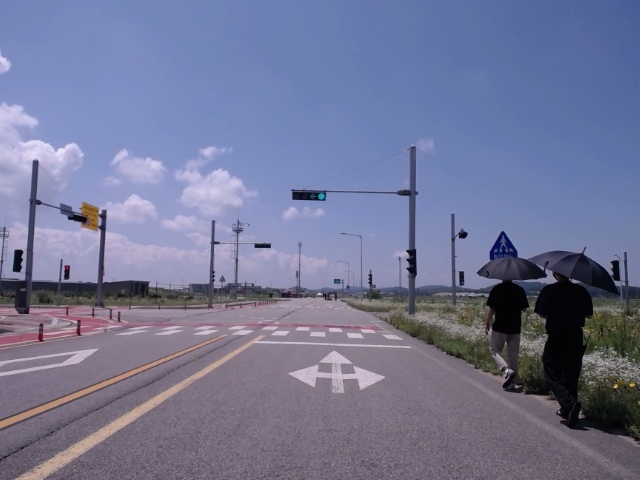all_green_4: (292, 189, 325, 199)
